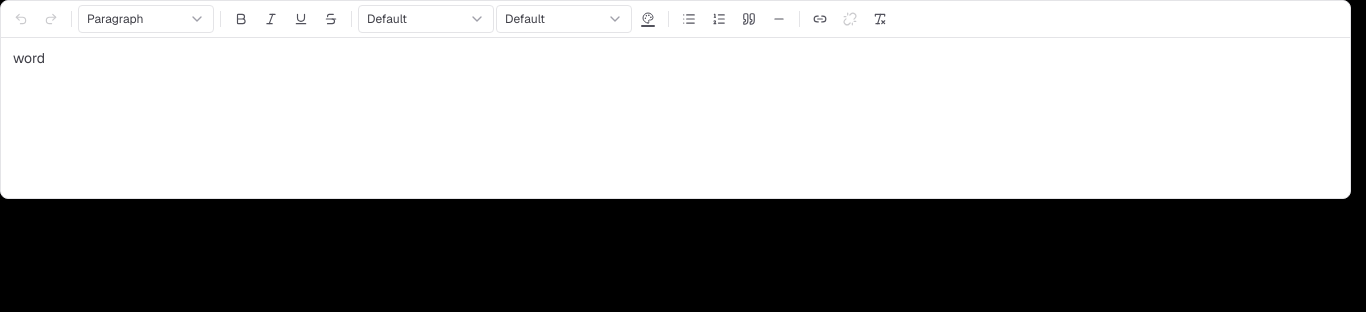
RichTextEditor theme styling (ADR-0011) › size 125% wraps the selection in a canonical font-size span
Click the button with aria-label "Size" at (564, 19), box [496,5,632,33]
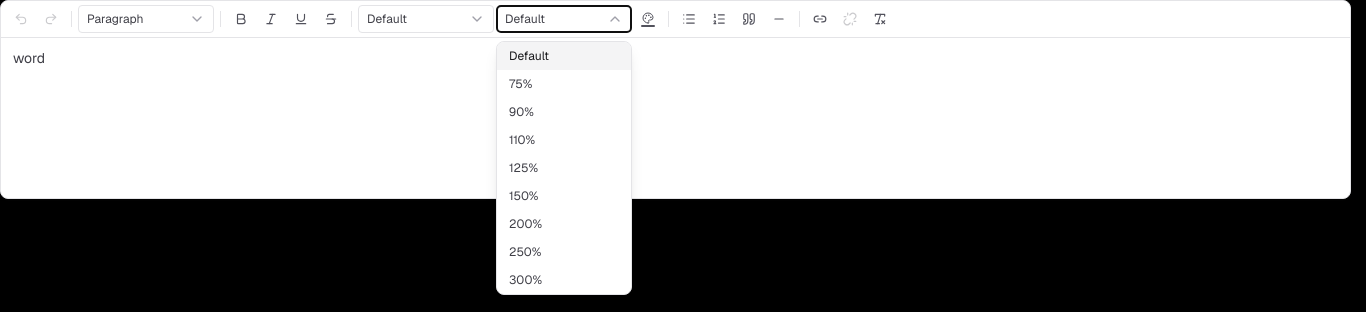
Click the option "125%" at (524, 168), box [509,160,538,176]
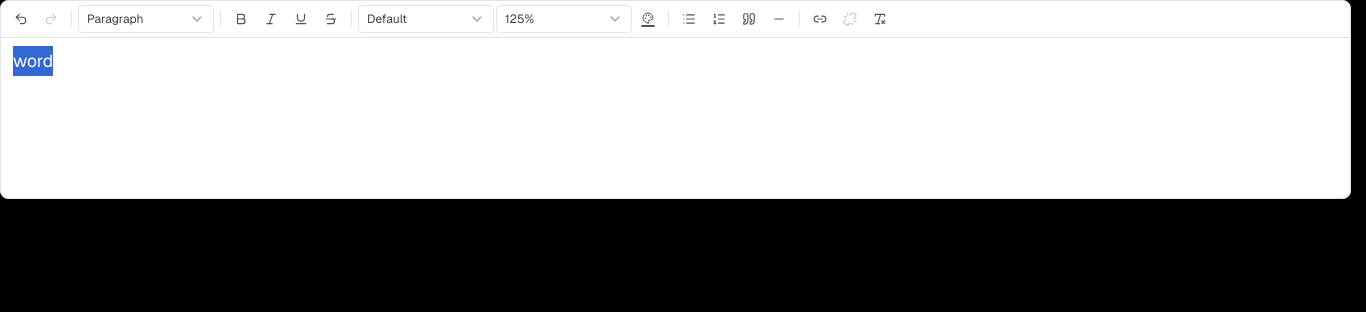
Check: the button named "Size" reads "125%", box [496,5,632,33]
